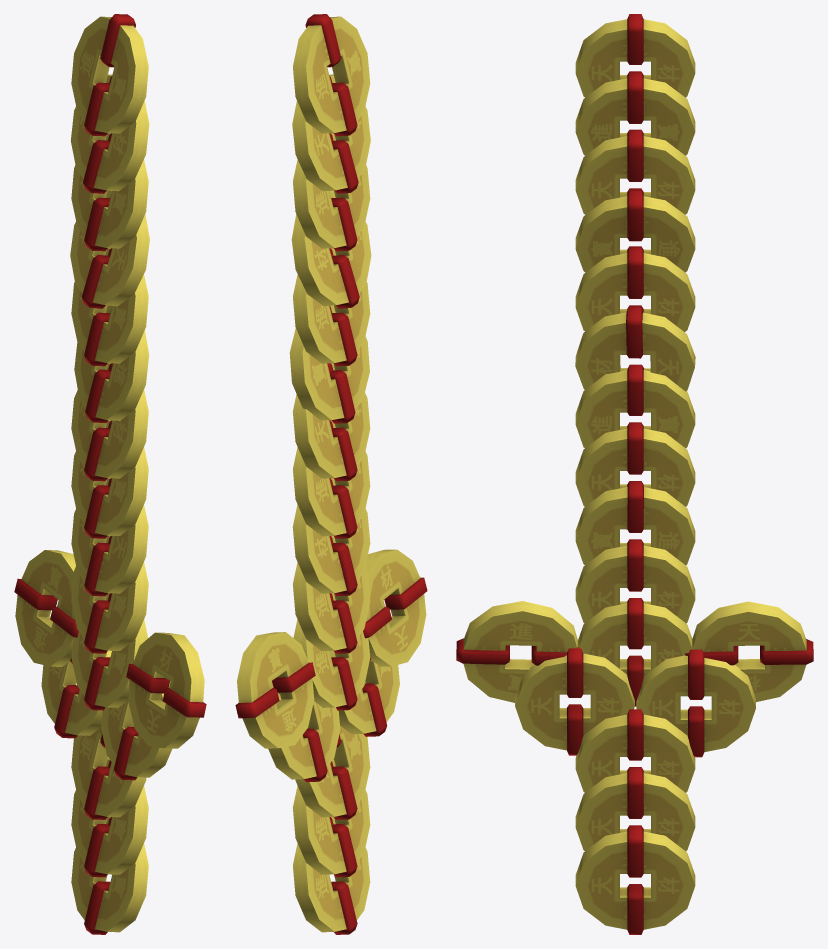
The model's file is MeleeWeaponAgent_CoinBlade.fbx.
3 views of the same model, side by side, from view 1: azimuth 30°, elevation 25°; view 2: azimuth 150°, elevation 25°; view 3: azimuth 270°, elevation 25° (orthographic).
Visible parts, largest first — view 1: Pfb_WPN_CopperCoinSword; view 2: Pfb_WPN_CopperCoinSword; view 3: Pfb_WPN_CopperCoinSword.
Part boxes in pixels (x1,y1,x2,y2): Pfb_WPN_CopperCoinSword: (14, 14, 206, 934); Pfb_WPN_CopperCoinSword: (235, 14, 427, 934); Pfb_WPN_CopperCoinSword: (456, 14, 813, 934).
Bounding box in the file's own units: 0.0679 × 1.17 × 0.4076.
